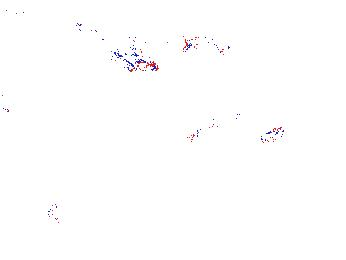X-ray fish: (43, 202, 83, 224)
glassfish: (1, 91, 103, 160)
red belly glassfish: (113, 51, 159, 73), (262, 126, 286, 141)
redtail glassfish: (185, 109, 248, 145), (74, 21, 140, 49), (183, 35, 230, 56)
